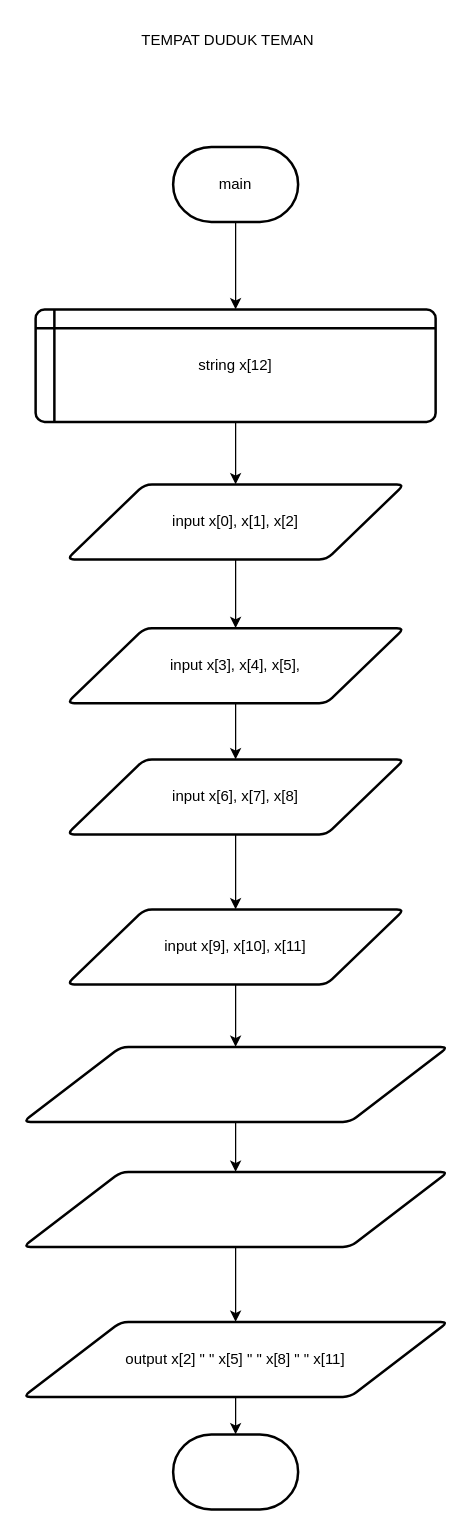
Image size: 470x1531. Some labels were removed from this diagram. The box of each missing label's shape, as (x1, y1, x2, y2) in pixels:
end: (171, 1432, 299, 1510)
output x[0] " " [x3] " " x[6] " " x[9]: (21, 1045, 449, 1122)
output x[1] " " x[4] " " x[7] " " x[10]: (21, 1170, 449, 1248)
